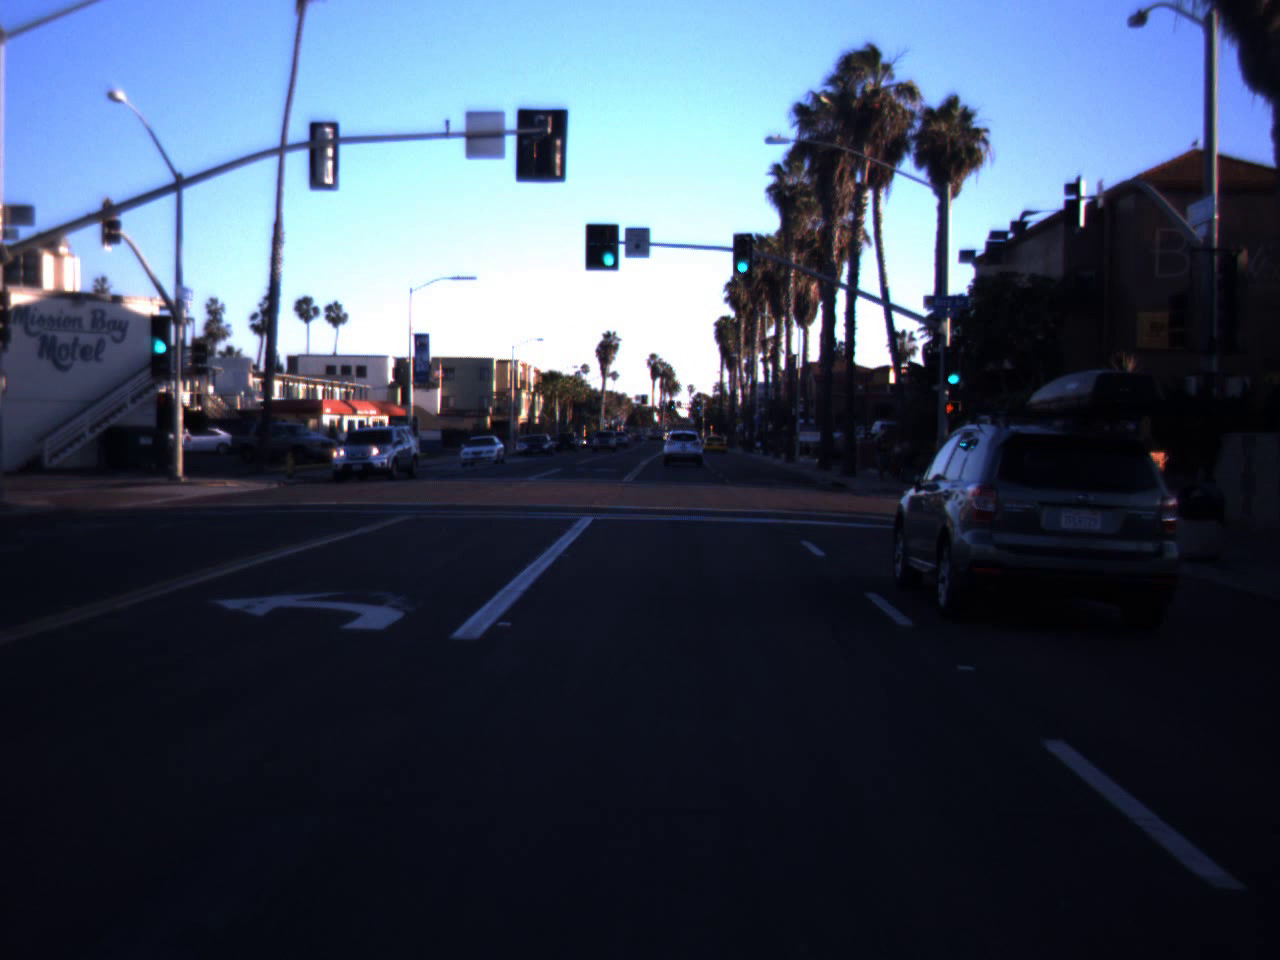go: (144, 307, 177, 357), (595, 215, 622, 270), (729, 231, 756, 276), (938, 351, 968, 386)
